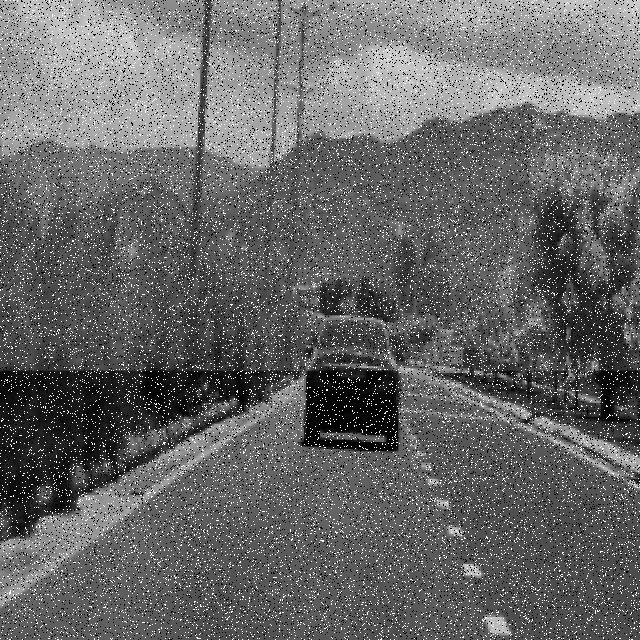clear-road: (0, 372, 640, 640)
